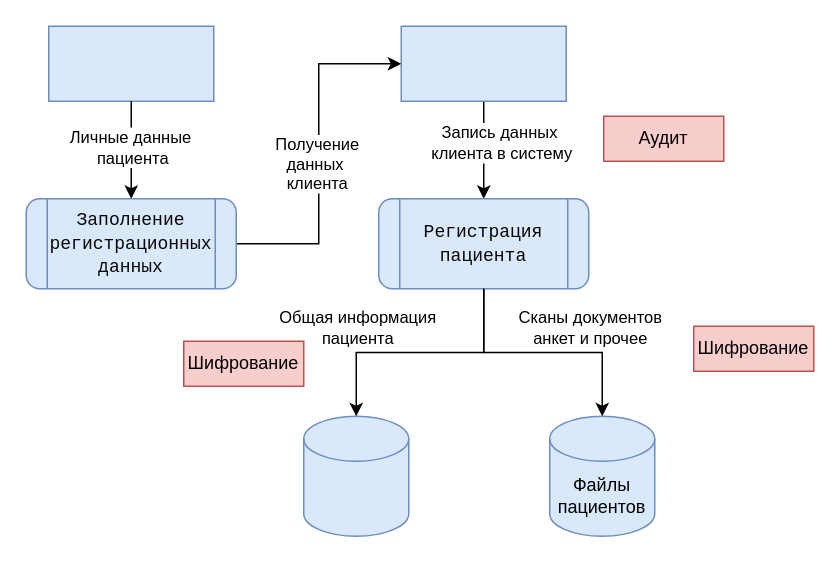
Some shapes in this 840 by 563 pixel diagram are drawn without their labels. The shapes that lost their labels are listed below. From the top down, each one's centre as x and y in pixels, then its label:
At (x=130, y=63): "Пациент".
At (x=483, y=63): "Администратор".
At (x=355, y=475): "Список пациентов".
